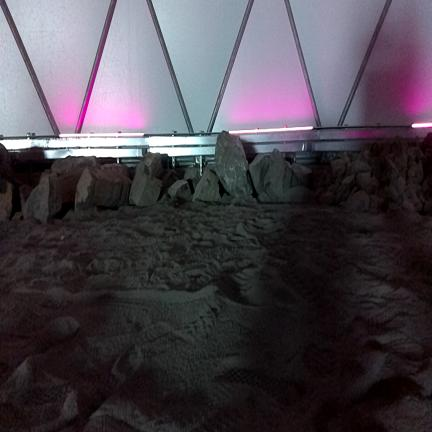Rock: (75, 164, 132, 211), (215, 131, 252, 197), (250, 150, 292, 202), (23, 174, 61, 223), (129, 162, 161, 206), (51, 157, 99, 175), (193, 170, 220, 201), (59, 172, 82, 203), (278, 186, 315, 203), (383, 155, 406, 180), (335, 175, 355, 203), (0, 143, 14, 183), (291, 163, 313, 188), (283, 186, 315, 203), (403, 184, 423, 211), (346, 190, 370, 212), (160, 170, 180, 196), (356, 172, 379, 194), (0, 179, 12, 221), (168, 180, 192, 200), (144, 153, 162, 178), (407, 146, 427, 168), (184, 164, 200, 191), (346, 160, 371, 176), (370, 156, 386, 181), (331, 158, 349, 177), (408, 161, 423, 183), (313, 169, 329, 189), (335, 183, 350, 203), (20, 184, 33, 205), (384, 184, 399, 202), (391, 176, 406, 194), (370, 194, 384, 212), (394, 153, 407, 172), (404, 184, 421, 198), (231, 196, 256, 205), (319, 191, 335, 205), (400, 199, 416, 213), (327, 178, 341, 194), (421, 174, 432, 194), (342, 175, 355, 189), (203, 164, 217, 175), (257, 192, 272, 202), (418, 187, 427, 203), (387, 203, 401, 213), (422, 133, 431, 148), (63, 209, 75, 220), (220, 194, 233, 204), (316, 187, 327, 198), (339, 153, 351, 163), (157, 194, 169, 204), (423, 199, 431, 213), (349, 186, 358, 197), (12, 212, 23, 220), (425, 147, 431, 159), (327, 172, 332, 186), (43, 169, 52, 174)
